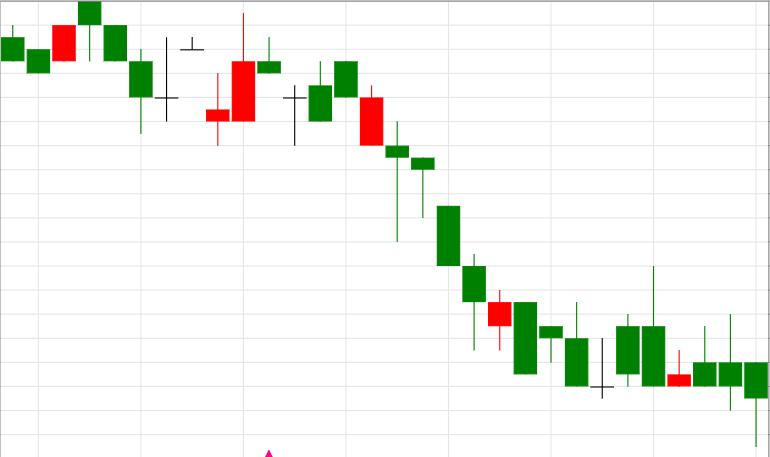hammer_rise: (386, 120, 767, 446)
